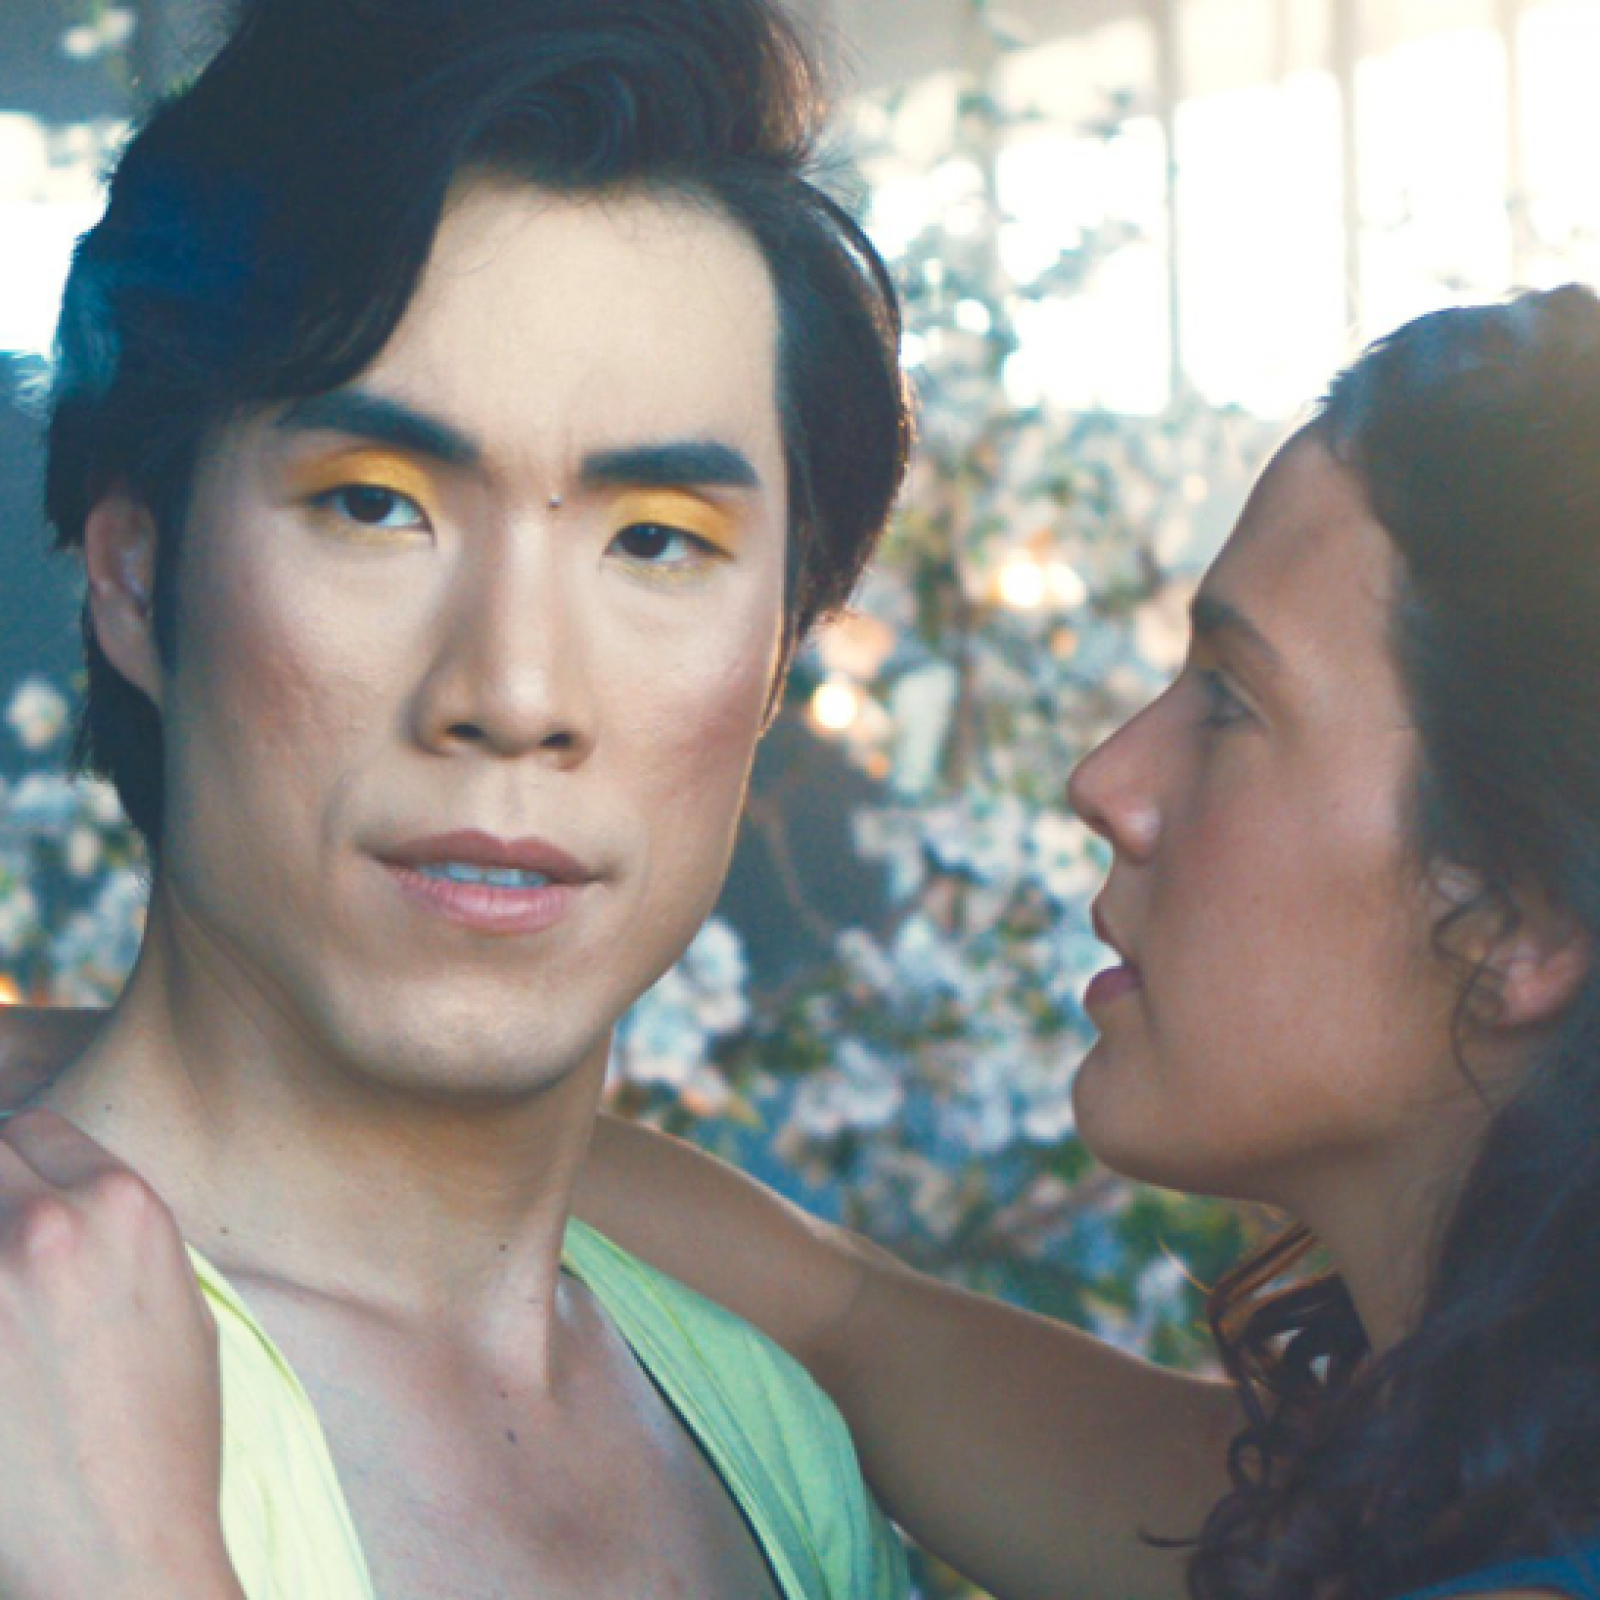bare: (143, 575, 776, 1105), (1058, 731, 1386, 1195)
